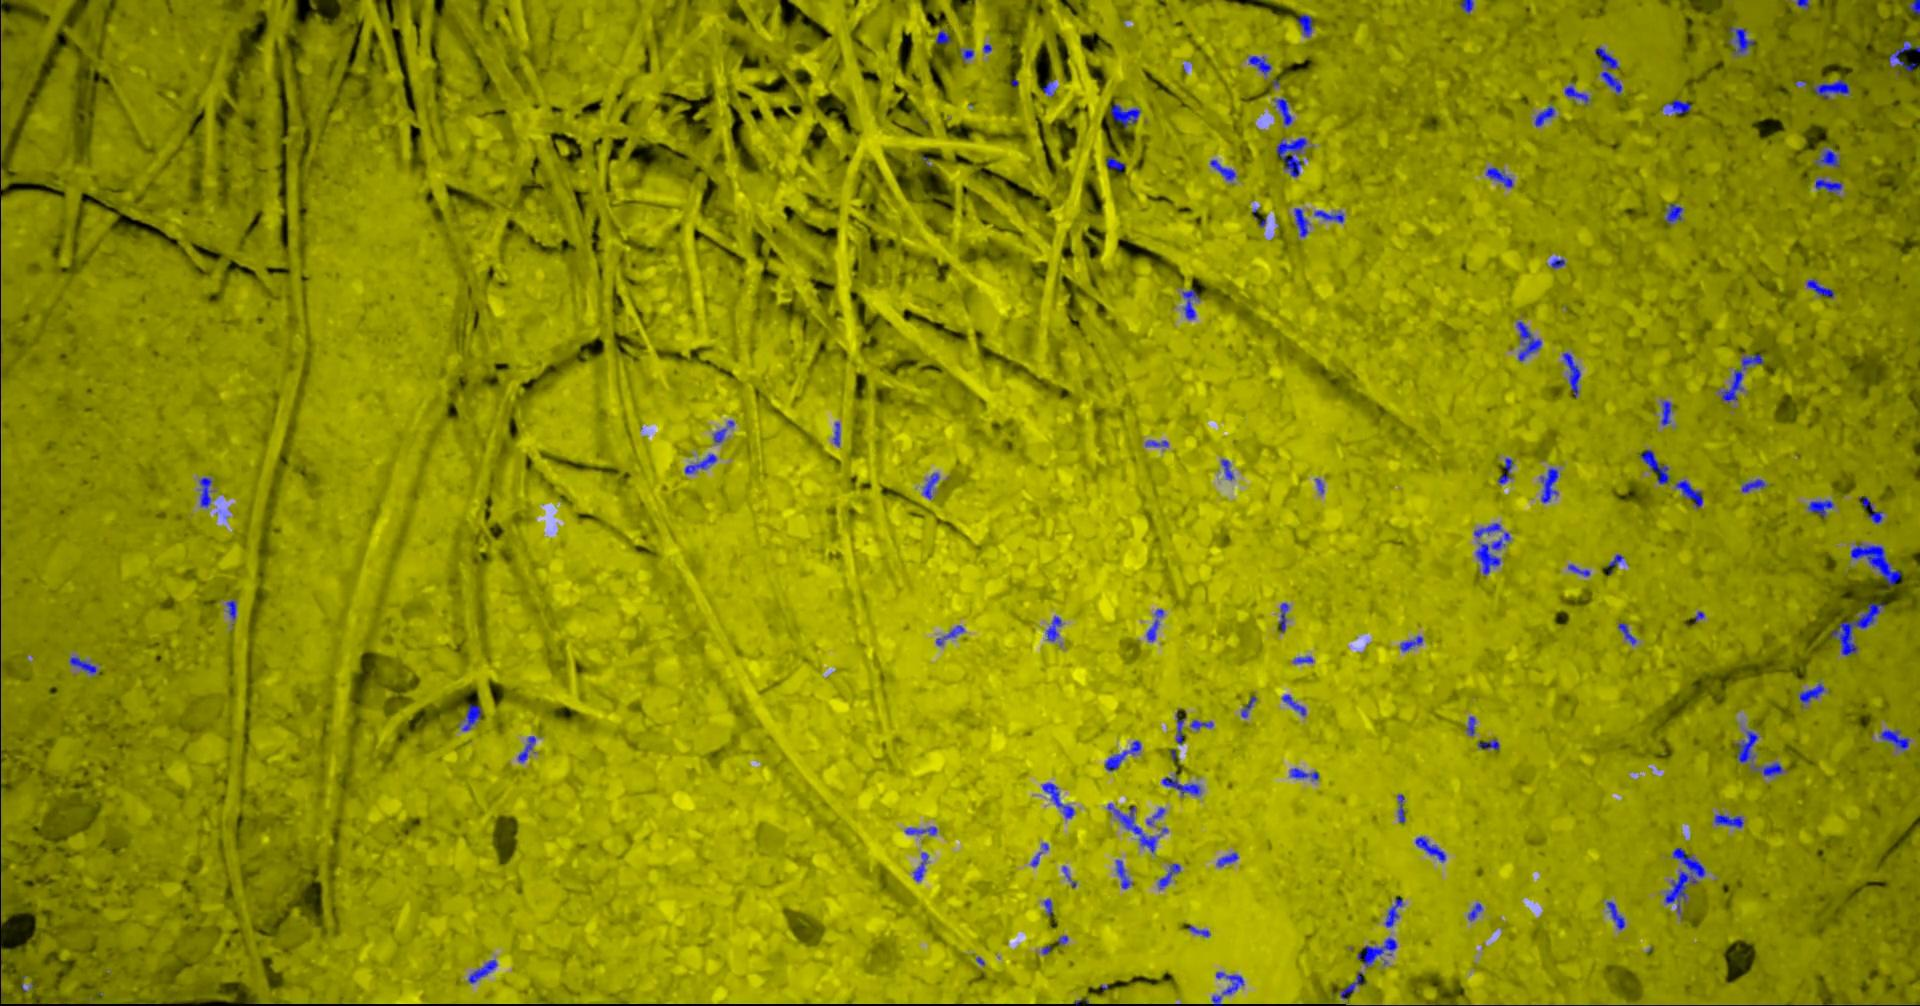ant: (1107, 803, 1168, 852), (1663, 847, 1705, 915), (1831, 602, 1883, 655), (1735, 730, 1783, 776), (1718, 353, 1763, 401), (1850, 542, 1900, 586), (1476, 531, 1510, 574), (1594, 47, 1622, 95), (1275, 137, 1305, 177), (1041, 782, 1074, 818), (1357, 937, 1396, 967), (1211, 970, 1243, 1005), (1103, 741, 1140, 770), (1639, 448, 1669, 483), (1516, 321, 1542, 359), (1888, 39, 1919, 70), (1562, 352, 1580, 396), (1675, 479, 1702, 508), (1415, 836, 1445, 861), (1161, 776, 1200, 795), (1338, 970, 1365, 998), (1728, 25, 1754, 55), (1110, 103, 1140, 127), (1811, 79, 1849, 98), (467, 959, 497, 983), (1858, 495, 1882, 523), (1539, 467, 1558, 502), (1798, 682, 1823, 706), (684, 453, 716, 473), (1879, 729, 1909, 749), (1145, 608, 1163, 641), (1209, 159, 1236, 180), (1484, 166, 1512, 187), (935, 625, 963, 645), (461, 702, 481, 730), (1158, 862, 1180, 888), (69, 655, 97, 674), (1181, 287, 1197, 319), (1564, 81, 1589, 103), (1384, 898, 1402, 927), (1272, 98, 1291, 124), (1606, 901, 1624, 929), (1283, 694, 1305, 715), (1662, 98, 1691, 114), (912, 852, 928, 882), (1115, 859, 1131, 888), (1806, 279, 1832, 297), (517, 735, 535, 762), (1807, 499, 1832, 517), (1293, 207, 1308, 236), (1248, 55, 1271, 74), (1815, 149, 1839, 166), (1473, 522, 1501, 537), (1045, 615, 1062, 640), (1534, 105, 1554, 126), (1617, 622, 1636, 644), (1714, 813, 1743, 827), (1815, 178, 1841, 193), (1030, 843, 1048, 866), (1313, 210, 1343, 222), (1497, 457, 1512, 483), (923, 473, 938, 498), (1295, 14, 1313, 36), (1399, 635, 1422, 652), (198, 478, 211, 507), (1289, 767, 1318, 780), (1145, 807, 1164, 826), (1665, 203, 1683, 224), (1741, 478, 1765, 492), (1175, 711, 1185, 744), (1608, 553, 1623, 573), (1277, 602, 1288, 633), (1241, 695, 1255, 716), (1660, 400, 1671, 426), (1217, 852, 1237, 866), (904, 826, 936, 835), (1105, 156, 1124, 170), (1220, 459, 1233, 479), (1467, 902, 1481, 920), (1567, 564, 1589, 575), (1477, 738, 1498, 749), (226, 600, 236, 624), (935, 29, 950, 44), (1189, 719, 1211, 729), (1189, 925, 1209, 936), (1397, 794, 1404, 822), (712, 428, 726, 442), (1465, 716, 1476, 735), (1043, 80, 1054, 97), (1459, 0, 1473, 13), (832, 422, 839, 445), (959, 48, 973, 60), (1909, 0, 1919, 15), (1145, 439, 1168, 446), (1293, 655, 1312, 663), (1550, 258, 1564, 268)
